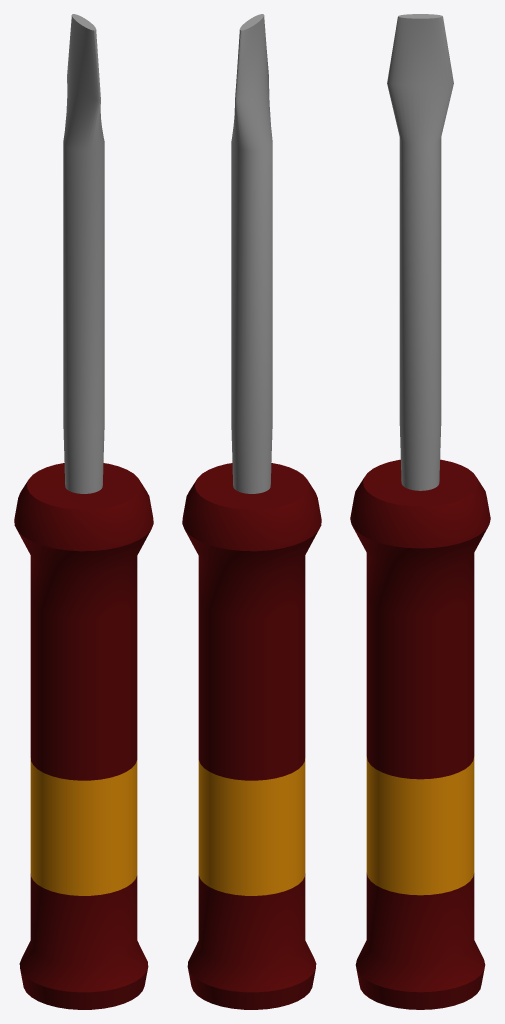
File: ScrewDriver_flat.fbx
3 views of the same model, side by side, from view 1: azimuth 30°, elevation 25°; view 2: azimuth 150°, elevation 25°; view 3: azimuth 270°, elevation 25° (orthographic).
Parts seen in each view (by area): view 1: ScrewDriver_flat; view 2: ScrewDriver_flat; view 3: ScrewDriver_flat.
Part boxes in pixels (x1,y1,x2,y2): ScrewDriver_flat: (14, 14, 153, 1009); ScrewDriver_flat: (182, 14, 321, 1009); ScrewDriver_flat: (350, 14, 490, 1009).
Size of the model in its own units: 1.87 by 14.18 by 1.87.
